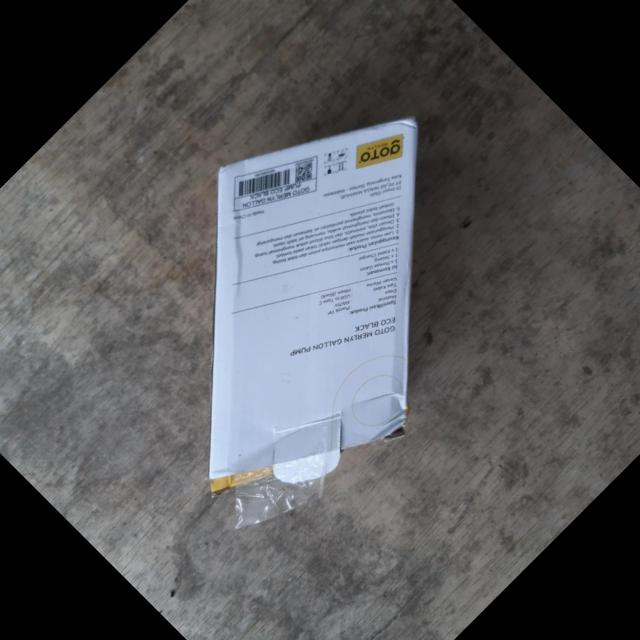Kardus: (50, 43, 570, 563)
